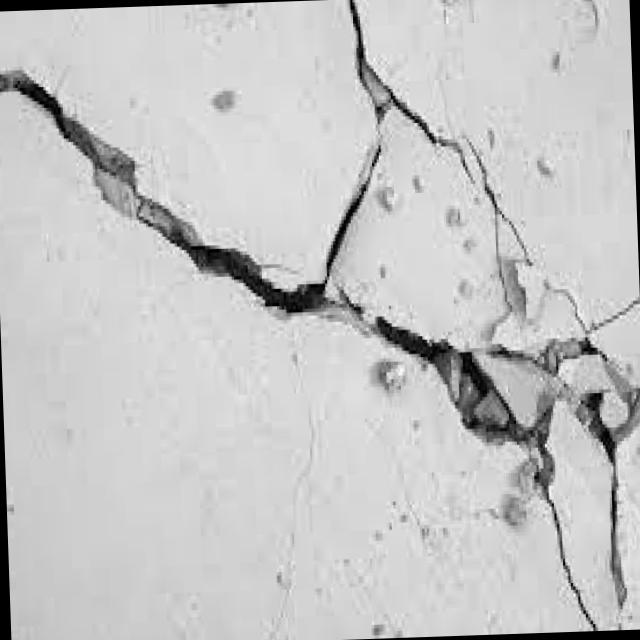crack: (328, 268, 640, 635), (0, 49, 330, 319), (315, 0, 539, 300)
